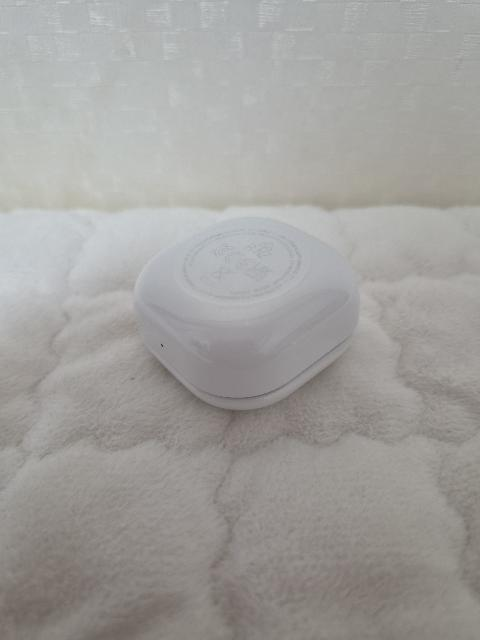earphone_case: (133, 216, 360, 410)
